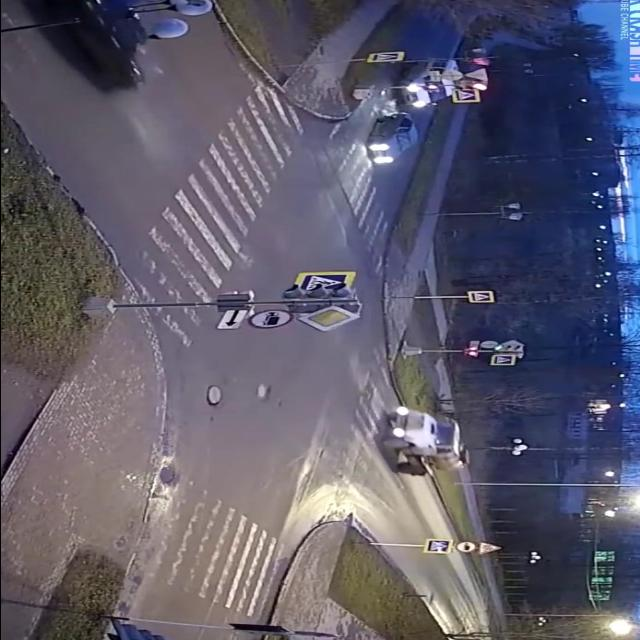non_accident: (357, 53, 466, 169)
